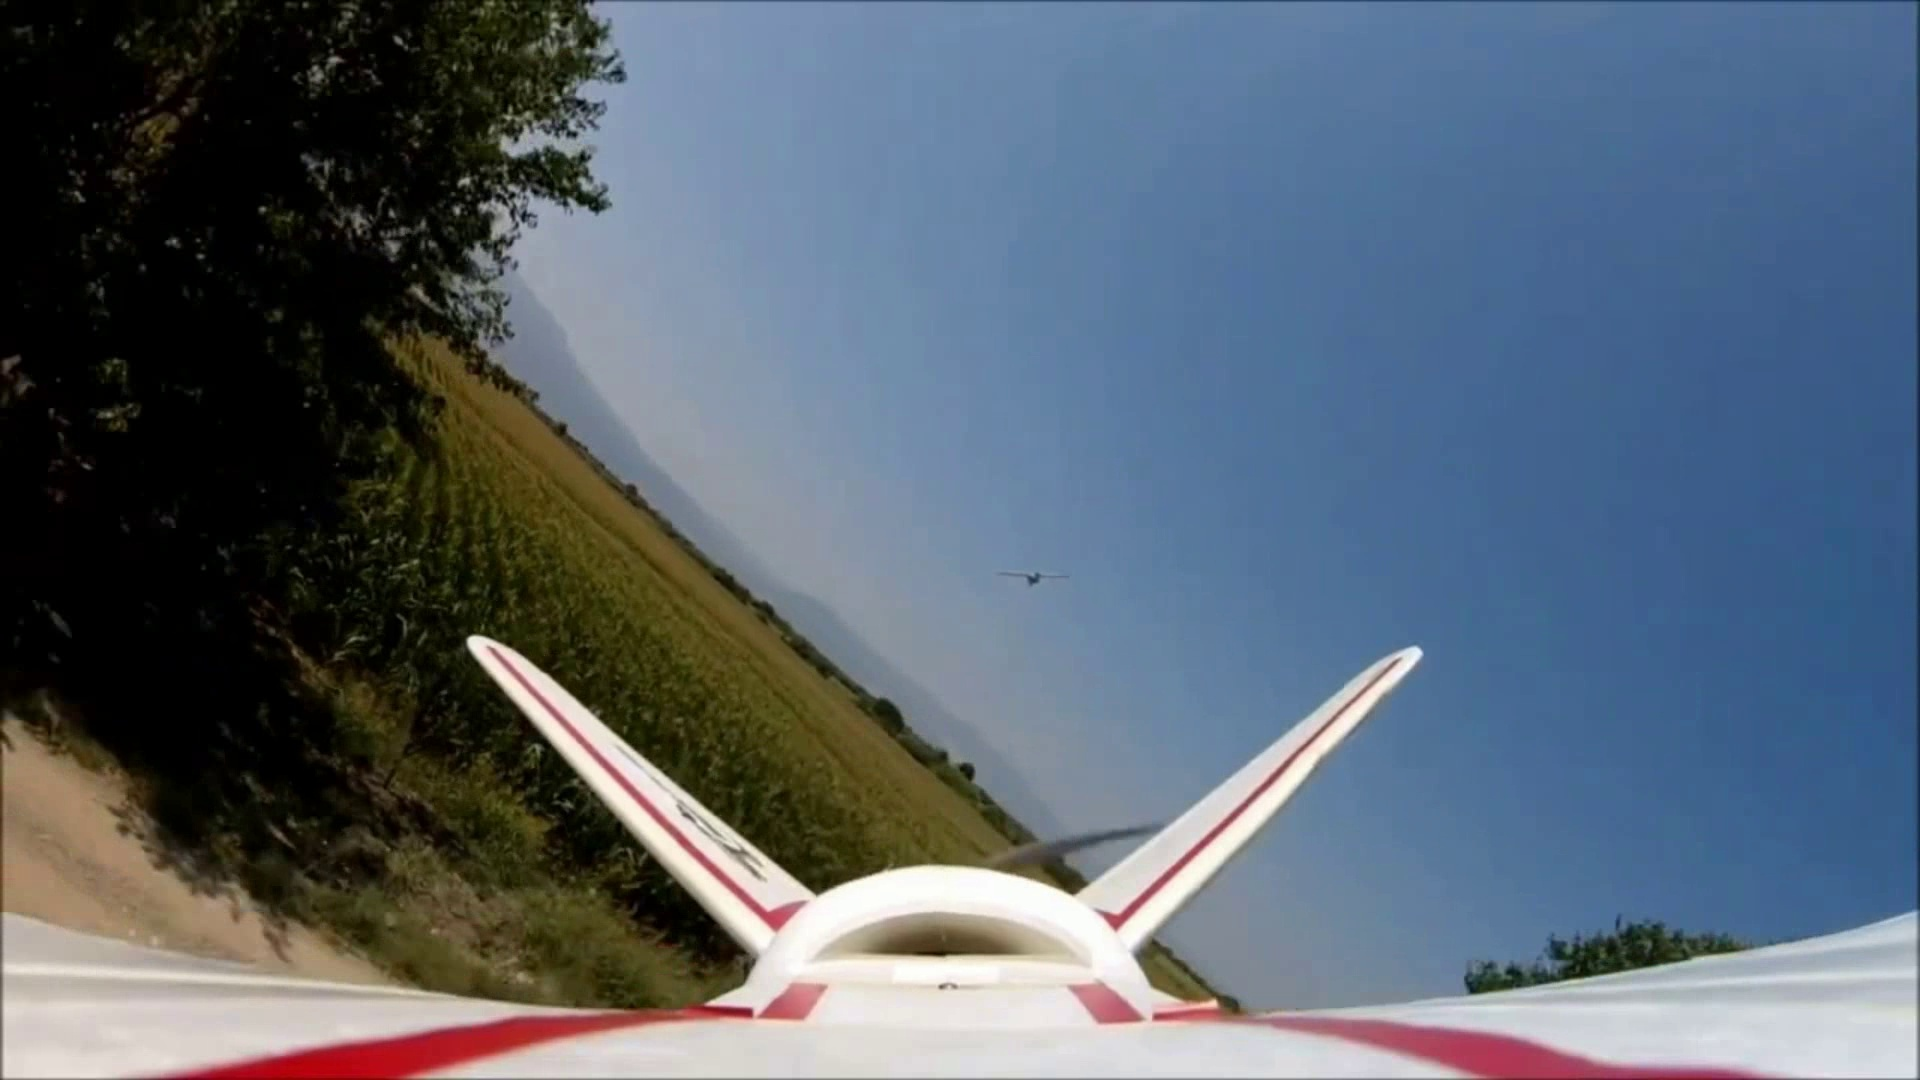airplane: (11, 630, 1899, 1071)
